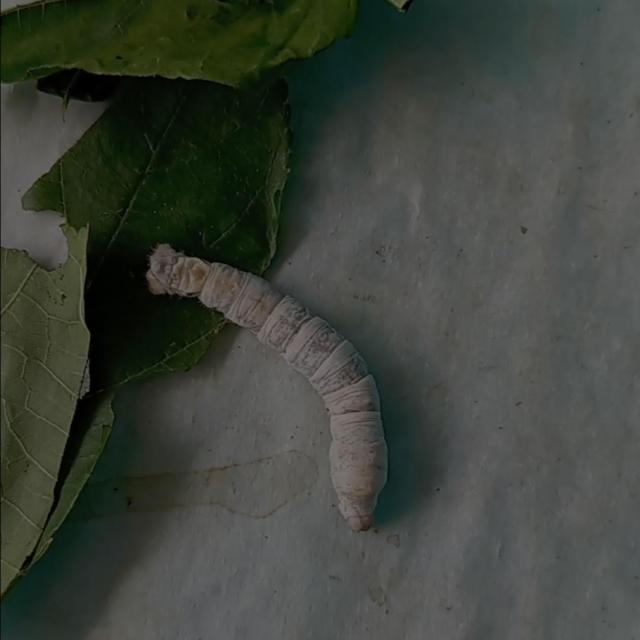Grasserie: (136, 234, 400, 539)
